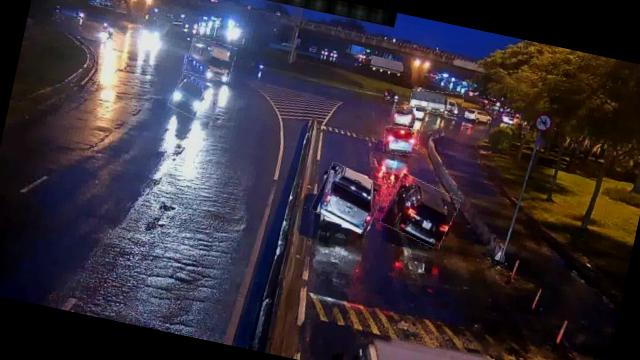Car: (381, 174, 462, 248), (310, 163, 388, 234), (168, 74, 213, 120), (382, 122, 422, 158), (393, 103, 418, 126)
Truck: (184, 36, 237, 83), (408, 84, 466, 118)
